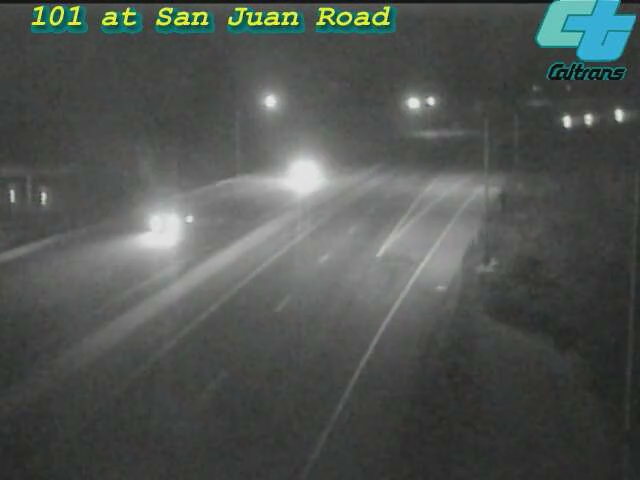vehicle: (121, 184, 201, 264), (262, 134, 342, 214), (565, 93, 615, 143), (541, 97, 591, 147), (594, 90, 640, 140)
